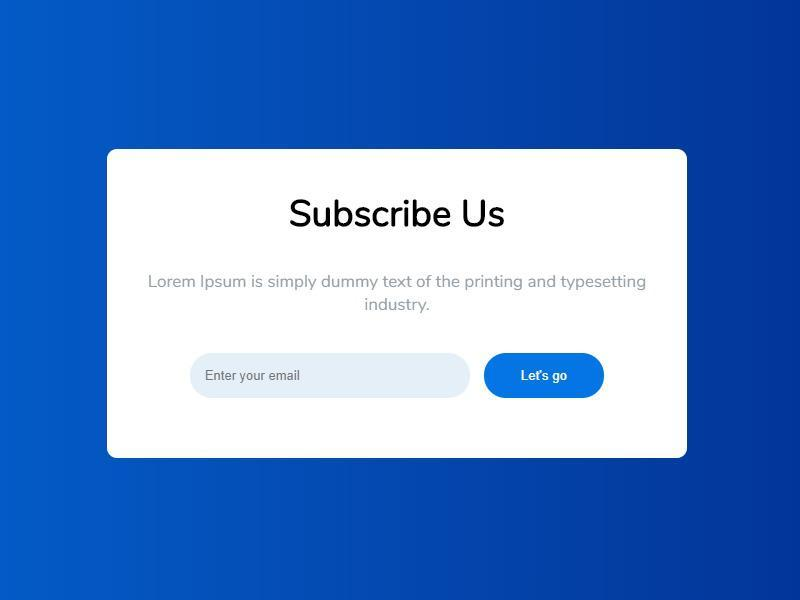button: (483, 354, 605, 400)
input: (191, 355, 472, 398)
